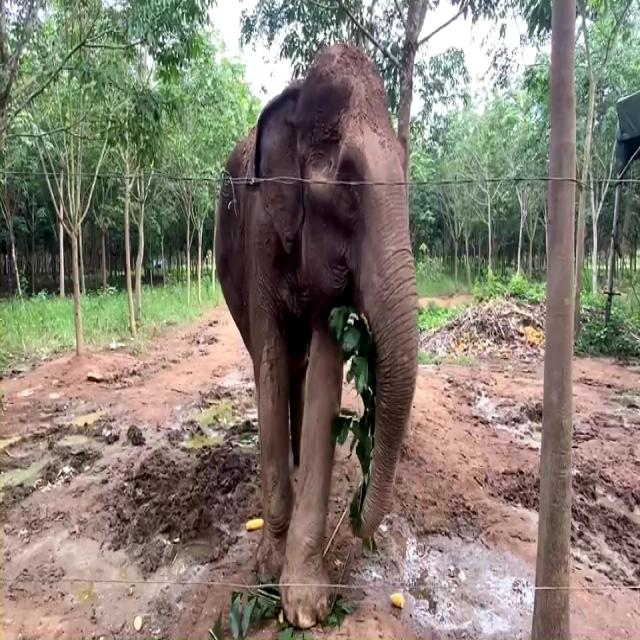Elephant: (211, 13, 431, 640)
